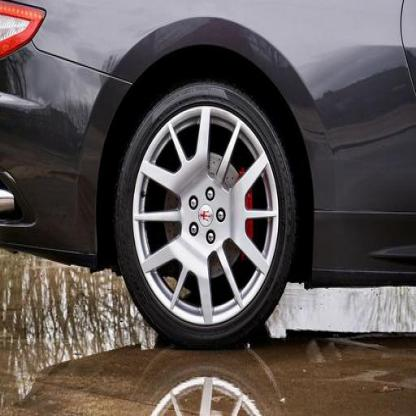Tire: (113, 79, 298, 350)
